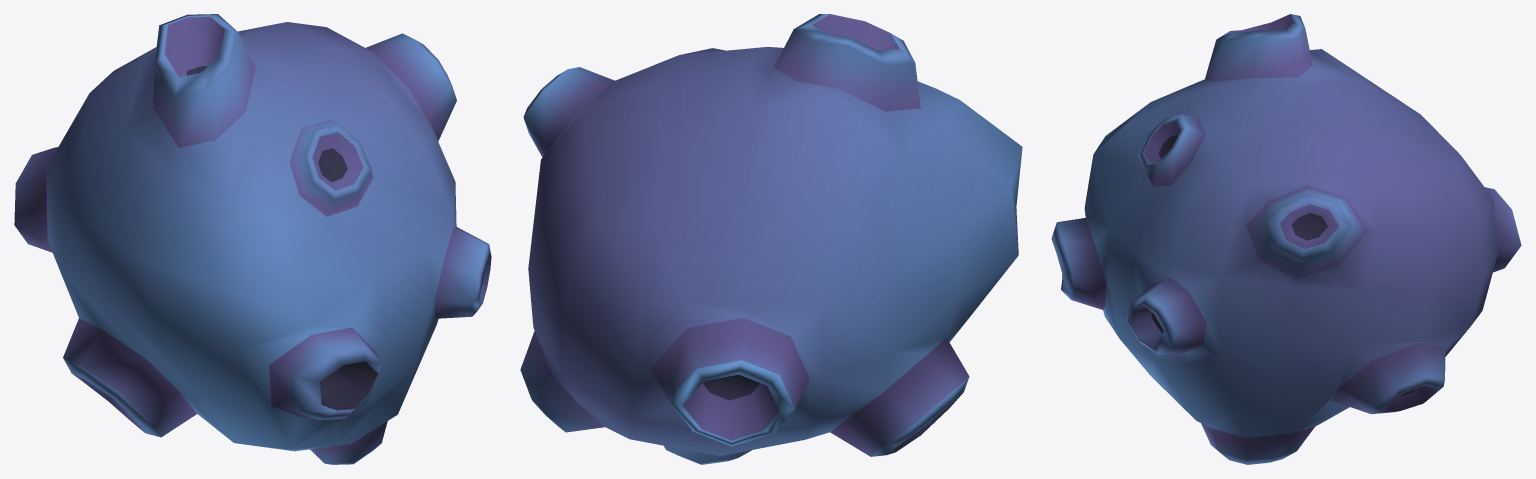
Rendered from Asteroid_Solo.fbx.
The picture shows the model from 3 angles, left to right: view 1: azimuth 30°, elevation 25°; view 2: azimuth 150°, elevation 25°; view 3: azimuth 270°, elevation 25°; orthographic projection. The views are drawn at different scales.
Parts seen in each view (by area): view 1: Asteroid_06; view 2: Asteroid_06; view 3: Asteroid_06.
Boxes of the visible parts, x1=… form: Asteroid_06: x1=14, y1=14, x2=491, y2=464; Asteroid_06: x1=520, y1=14, x2=1022, y2=464; Asteroid_06: x1=1051, y1=14, x2=1521, y2=464.
Size of the model in its own units: 378 by 427 by 476.
